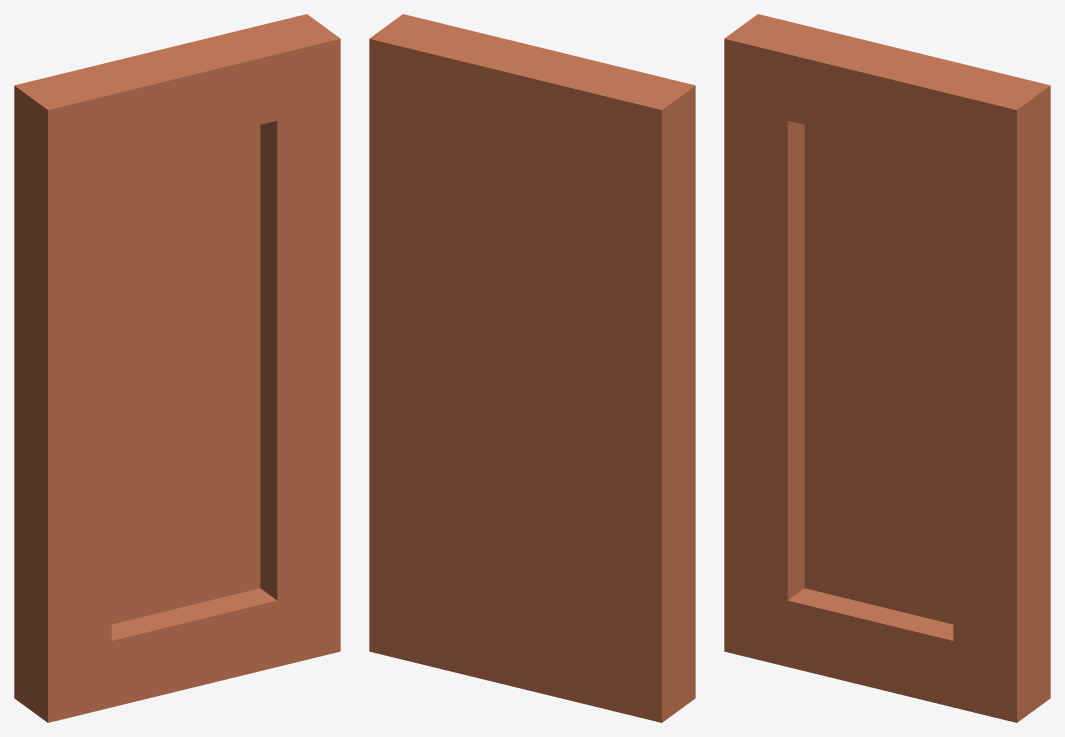
Rendered from door-brown.obj.
The picture shows the model from 3 angles, left to right: view 1: azimuth 30°, elevation 25°; view 2: azimuth 150°, elevation 25°; view 3: azimuth 330°, elevation 25°; orthographic projection.
Size of the model in its own units: 0.25 by 0.5 by 0.05.
